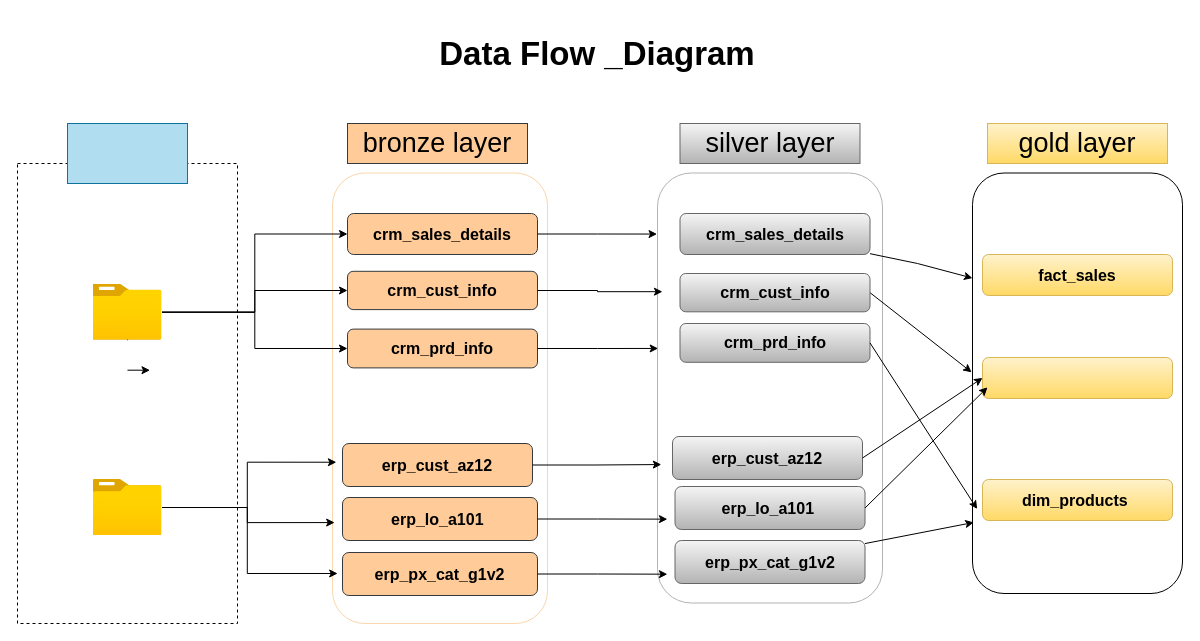
This 1200x641 diagram has some shape labels left out. Each missing label, with the centre of its shape:
"BRM" belongs at (127,550).
"CRM" belongs at (127,355).
"dim_customers" belongs at (1077,377).
"sources" belongs at (127,153).
